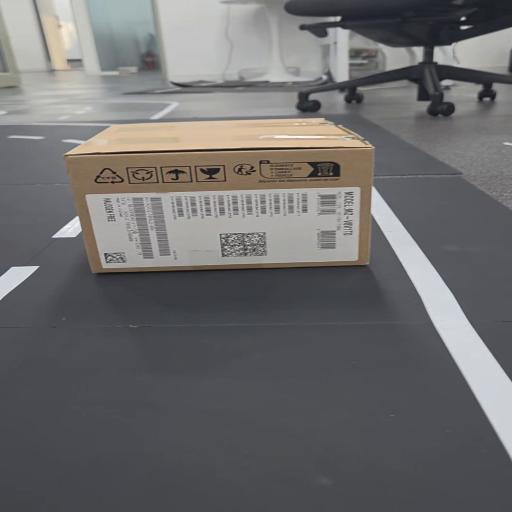Box: (68, 118, 374, 290)
